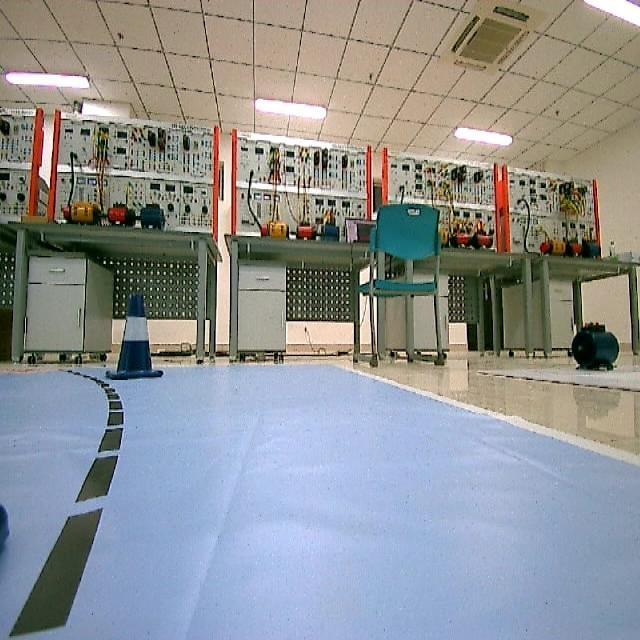obstacle: (113, 293, 162, 384)
